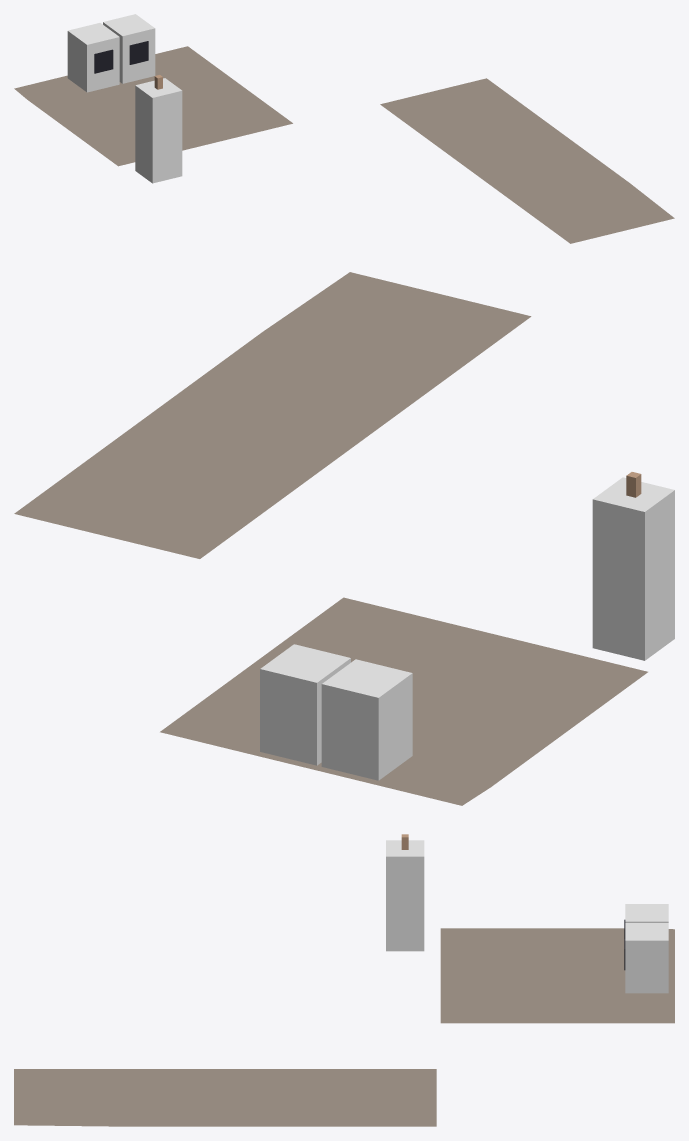
Rendered from fine-s0.glb.
3 renders of one model, top to bottom at view 1: azimuth 30°, elevation 25°; view 2: azimuth 150°, elevation 25°; view 3: azimuth 270°, elevation 25°, orthographic. The views are drawn at different scales.
Visible parts, largest first — view 1: soft-s0, water-heater.000, washer.000, washer.001; view 2: soft-s0, water-heater.000, washer.000, washer.001; view 3: soft-s0, water-heater.000, washer.001, washer.000.
Part boxes in pixels (x1,y1,x2,y2): soft-s0: (14,46,674,243); water-heater.000: (135,75,182,183); washer.000: (67,23,119,92); washer.001: (103,14,155,83); soft-s0: (14,272,647,805); water-heater.000: (592,472,674,660); washer.000: (321,659,412,780); washer.001: (260,644,350,765); soft-s0: (14,928,674,1126); water-heater.000: (386,834,424,951); washer.001: (624,923,668,993); washer.000: (624,904,668,938).
Bounding box in the file's own units: 6.73 × 1.7 × 9.48.
